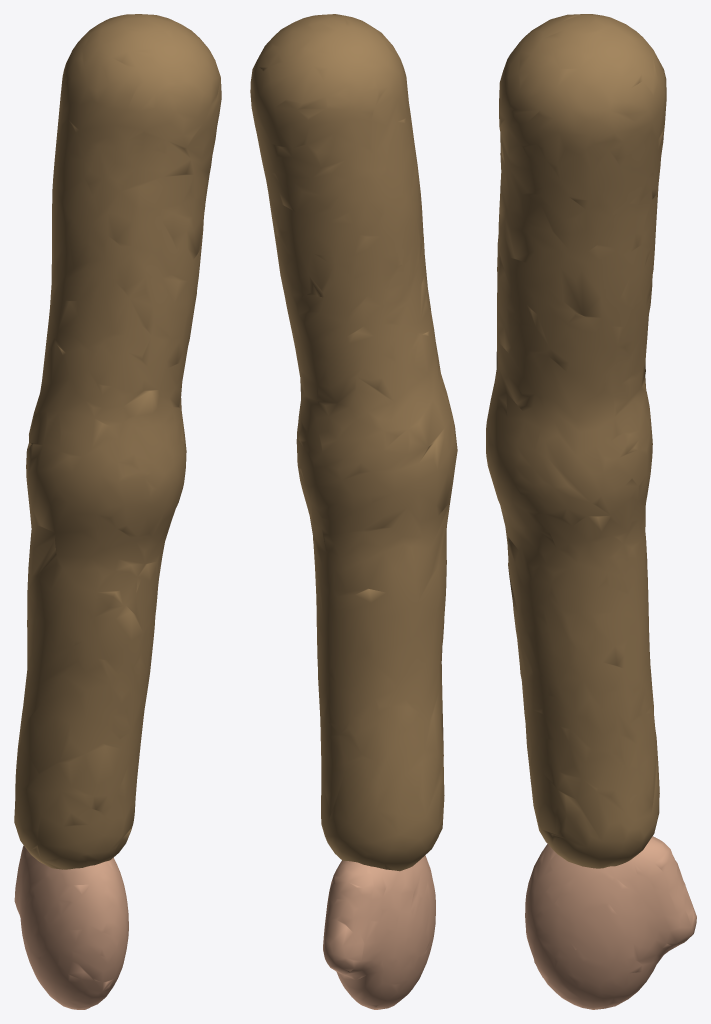
File: journalist_arm_l.obj
The picture shows the model from 3 angles, left to right: view 1: azimuth 30°, elevation 25°; view 2: azimuth 150°, elevation 25°; view 3: azimuth 270°, elevation 25°; orthographic projection. The views are drawn at different scales.
Visible parts, largest first — view 1: sleeve, skin; view 2: sleeve, skin; view 3: sleeve, skin.
Boxes of the visible parts, box(x1,y1,x2,y2) form: sleeve: box(14, 14, 221, 869); skin: box(14, 845, 128, 1009); sleeve: box(250, 14, 457, 871); skin: box(323, 855, 435, 1009); sleeve: box(486, 14, 666, 868); skin: box(525, 836, 696, 1009).
Size of the model in its own units: 0.1391 by 0.7067 by 0.133.
